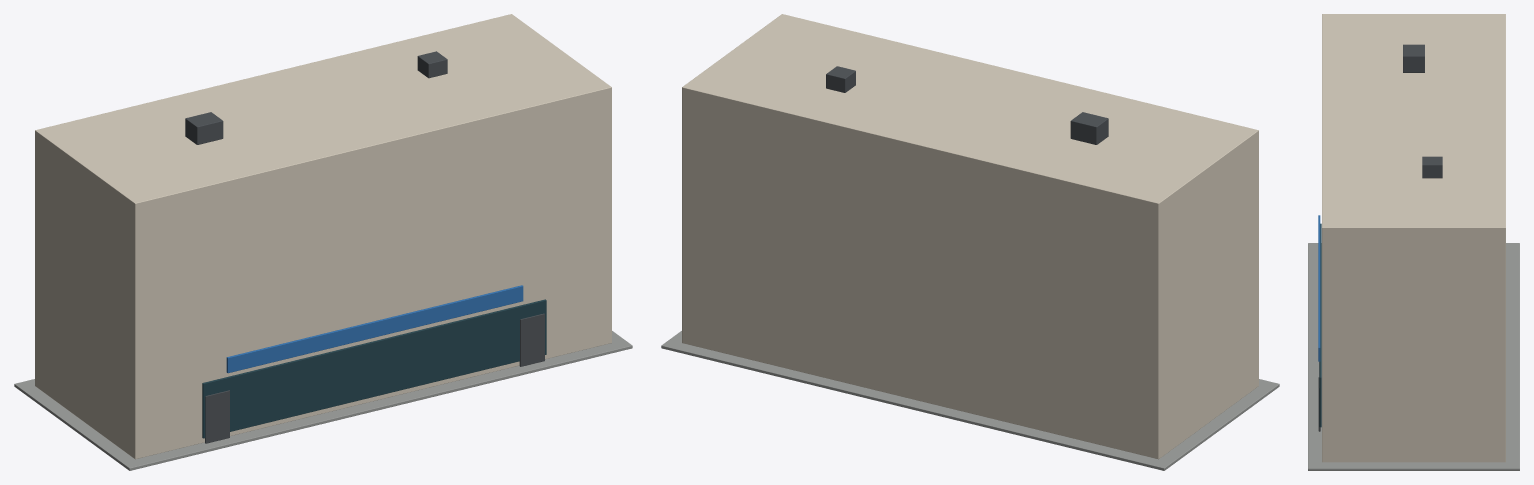
Rendered from Building_Commercial_017.glb.
3 views of the same model, side by side, from view 1: azimuth 30°, elevation 25°; view 2: azimuth 150°, elevation 25°; view 3: azimuth 270°, elevation 25° (orthographic). The views are drawn at different scales.
Visible parts, largest first — view 1: Building_Commercial_017; view 2: Building_Commercial_017; view 3: Building_Commercial_017.
Part boxes in pixels (box(x1,y1,x2,y2)): Building_Commercial_017: box(14, 14, 632, 470); Building_Commercial_017: box(661, 14, 1279, 470); Building_Commercial_017: box(1308, 14, 1519, 470).
Size of the model in its own units: 28.8 by 15.16 by 11.44.
